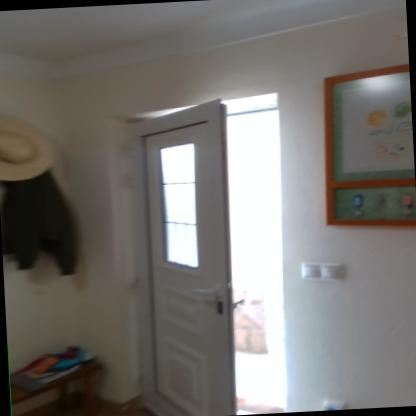semi: (114, 86, 314, 414)
